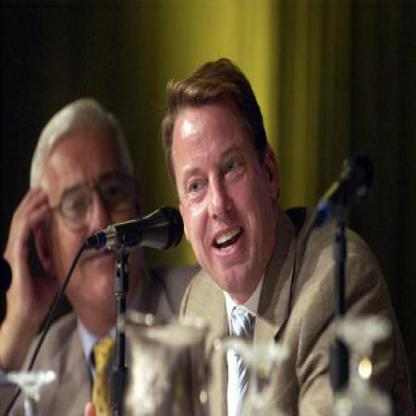face: (177, 71, 271, 293), (44, 101, 138, 316)
